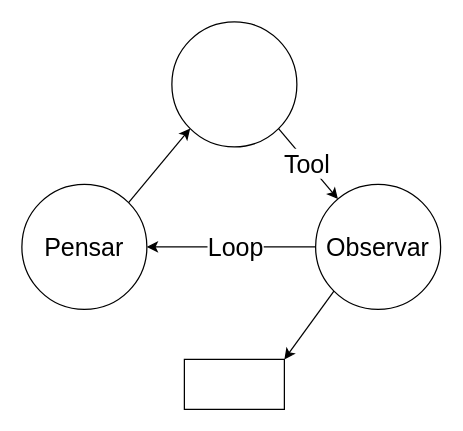
The diagram is 463 pixels wide and 431 high, and some of its shapes have lost their labels. The centre of each missing label's shape, as x and y in pixels:
Agir: point 234,84
Answer: point 233,383
